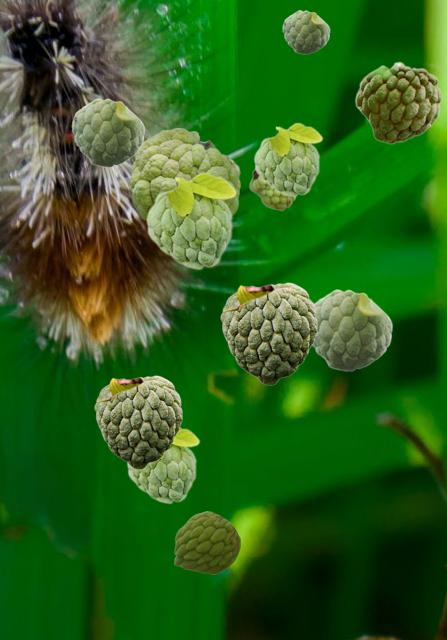atis: (130, 128, 239, 220), (220, 282, 316, 384), (145, 171, 236, 269), (94, 375, 181, 468), (354, 61, 441, 143), (312, 289, 392, 370), (126, 427, 199, 503), (253, 122, 322, 196), (71, 98, 144, 166), (174, 511, 239, 573), (282, 10, 329, 53), (249, 169, 296, 210)
